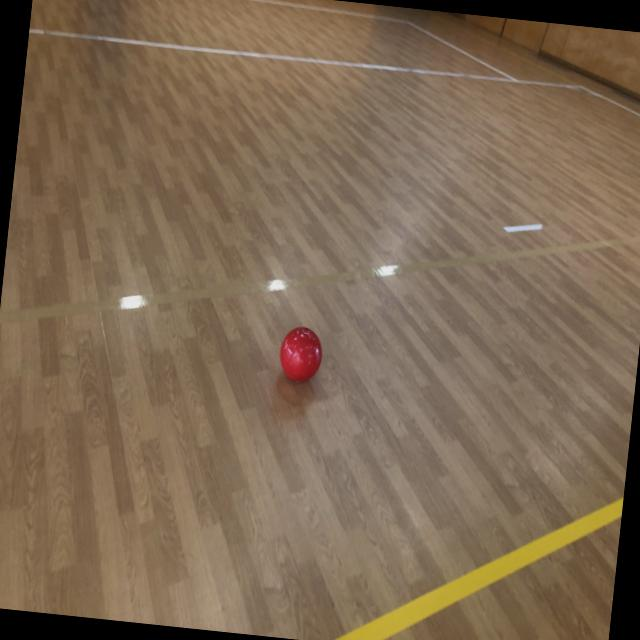red_ball: (276, 324, 326, 386)
